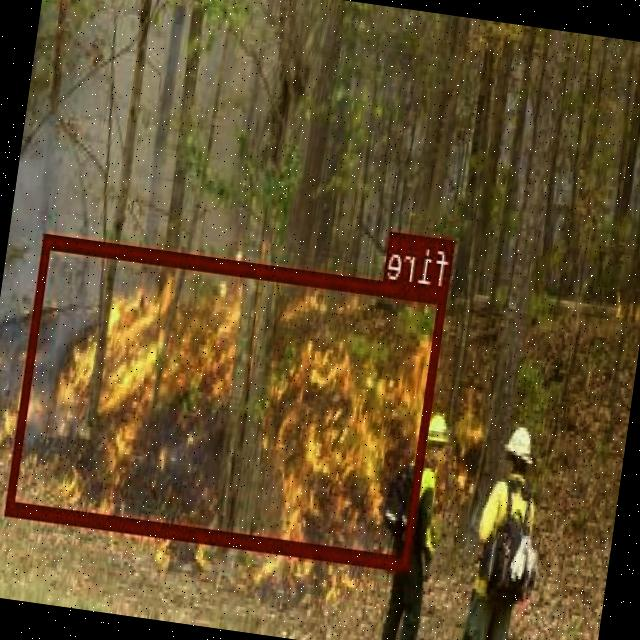fire: (8, 232, 449, 568)
